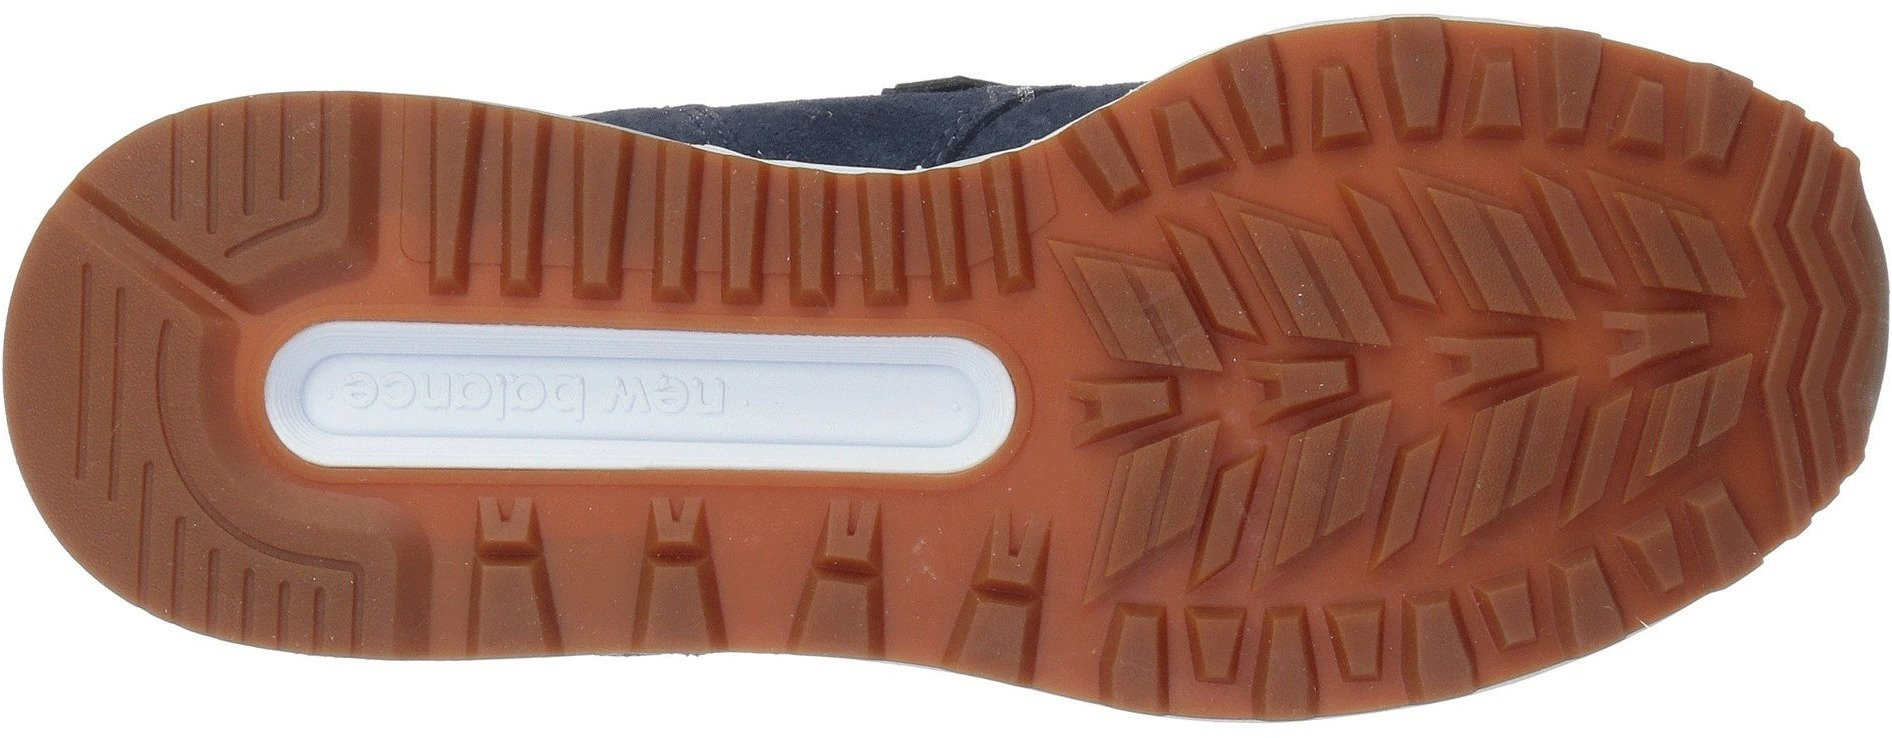chevron: (1040, 147, 1525, 605), (1455, 191, 1767, 474), (592, 500, 764, 650), (1773, 245, 1886, 371)
circle: (477, 350, 588, 452)
line: (150, 94, 290, 232)
quad: (1040, 147, 1525, 605), (1455, 191, 1767, 474), (431, 113, 630, 306), (592, 500, 764, 650), (1320, 586, 1484, 715), (709, 184, 843, 307), (919, 191, 1035, 298)
text: (598, 345, 732, 453), (332, 348, 456, 445), (477, 350, 588, 452)
